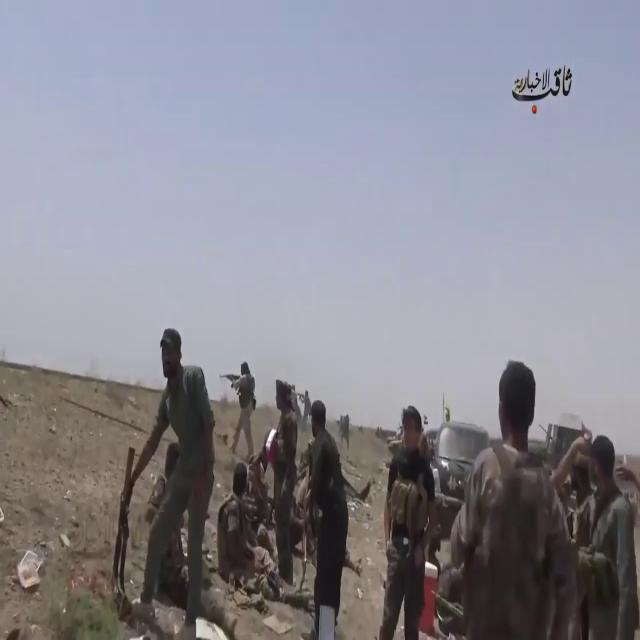long weapon: (103, 426, 138, 630), (218, 372, 240, 390)
